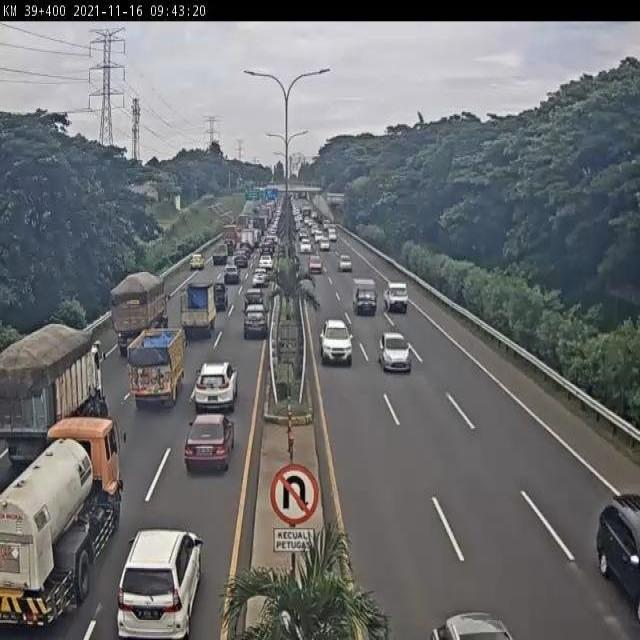Car: (116, 528, 202, 639), (596, 495, 640, 631), (184, 411, 236, 473), (429, 612, 515, 640), (193, 361, 238, 414), (319, 318, 353, 366), (379, 331, 411, 373), (293, 206, 318, 250), (352, 279, 377, 316), (243, 304, 268, 340), (383, 280, 408, 314), (244, 288, 264, 308), (223, 262, 240, 284), (258, 255, 274, 275), (251, 270, 267, 288), (309, 255, 323, 275), (190, 253, 205, 270), (339, 254, 352, 272), (234, 252, 248, 268), (260, 238, 273, 255), (327, 227, 337, 242), (294, 215, 302, 230), (311, 211, 320, 223), (323, 219, 331, 231)
Truck: (0, 428, 121, 630), (2, 323, 108, 482), (110, 272, 168, 360), (126, 326, 186, 409), (180, 283, 216, 339), (222, 223, 242, 253), (240, 228, 256, 254), (212, 245, 228, 266), (236, 214, 250, 238), (254, 216, 266, 235), (272, 242, 285, 258), (292, 252, 300, 270), (302, 206, 312, 220), (299, 192, 308, 200)
